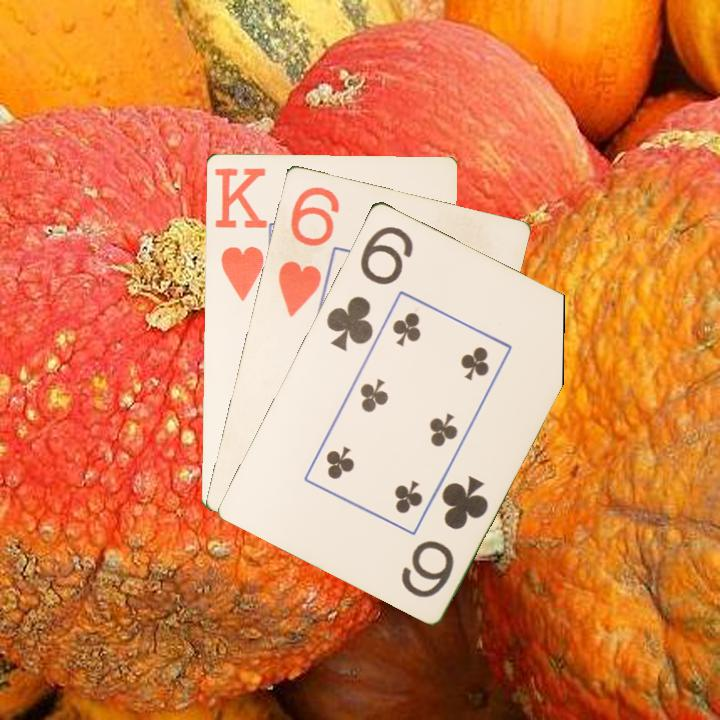6c: (322, 221, 417, 354), (397, 471, 492, 600)
6h: (274, 182, 342, 320)
Kh: (210, 163, 267, 303)
